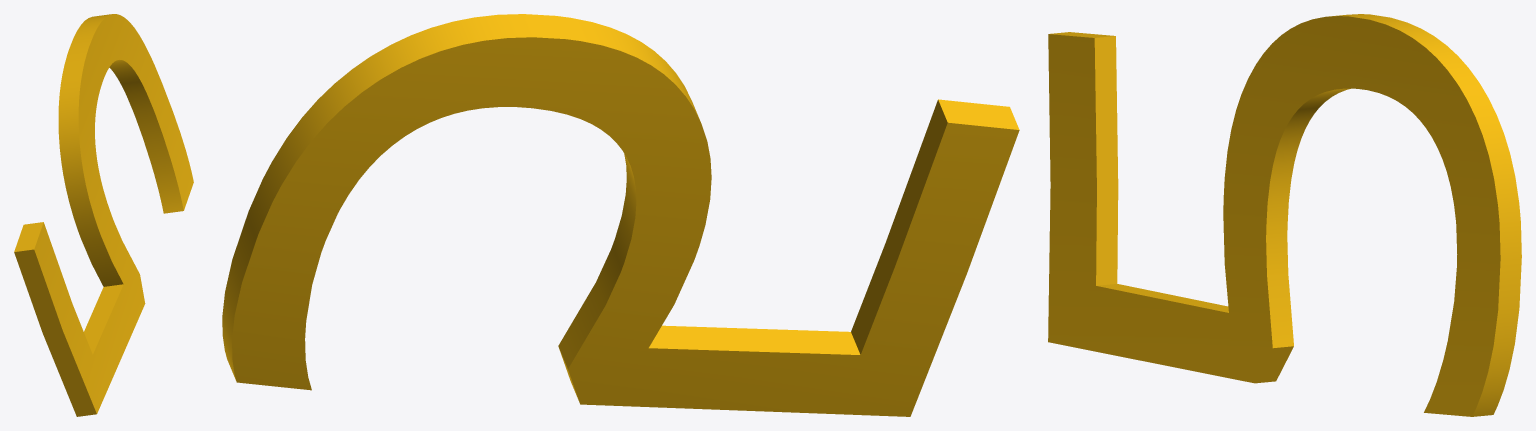
Rendered from Number_5.gltf.
3 views of the same model, side by side, from view 1: azimuth 30°, elevation 25°; view 2: azimuth 150°, elevation 25°; view 3: azimuth 270°, elevation 25° (orthographic). The views are drawn at different scales.
Visible parts, largest first — view 1: Sub_2_Cell_3_3_Number_5; view 2: Sub_2_Cell_3_3_Number_5; view 3: Sub_2_Cell_3_3_Number_5.
Part boxes in pixels (x1=…): Sub_2_Cell_3_3_Number_5: x1=14, y1=14, x2=193, y2=416; Sub_2_Cell_3_3_Number_5: x1=222, y1=14, x2=1019, y2=416; Sub_2_Cell_3_3_Number_5: x1=1048, y1=14, x2=1521, y2=416.
Size of the model in its own units: 0.0217 by 0.0182 by 0.0192.
